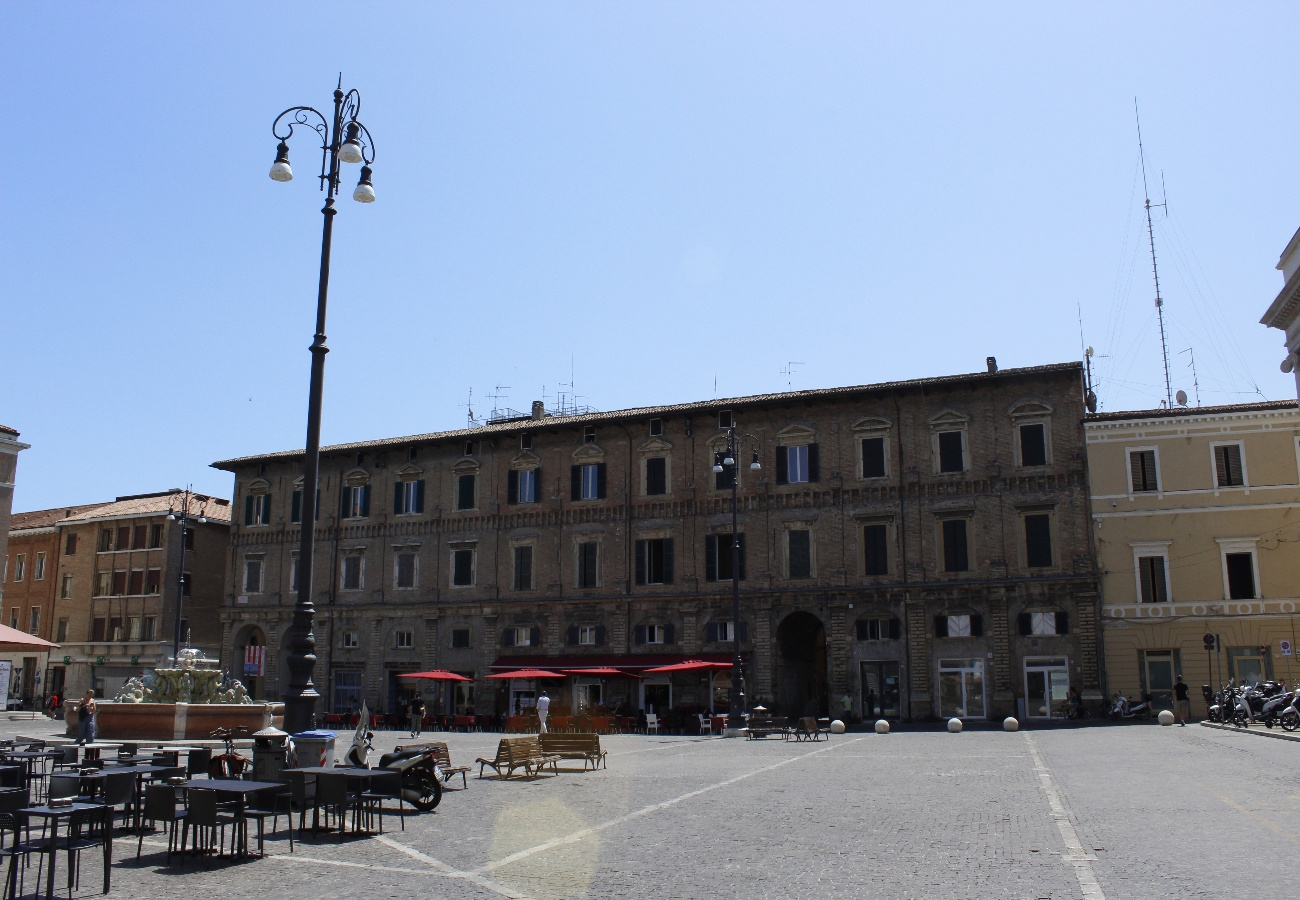Fontana Piazza del Popolo: (151, 654, 225, 707)
Palazzo Baviera: (213, 375, 1088, 725)
